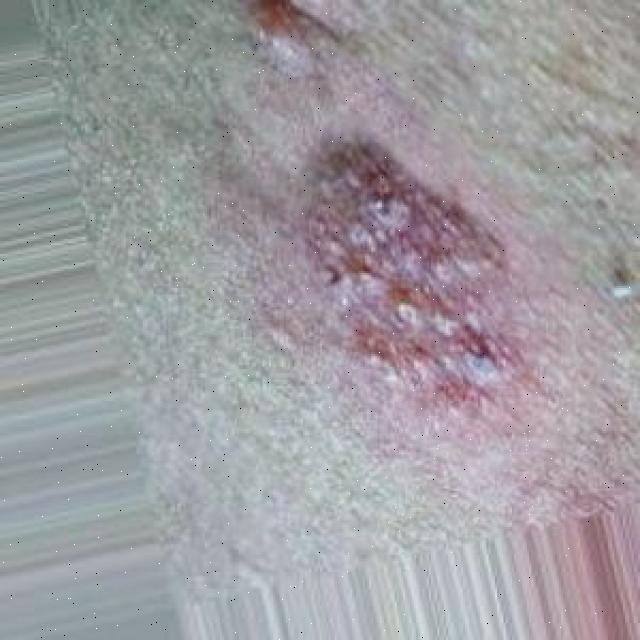Shingles: (306, 136, 517, 393)
